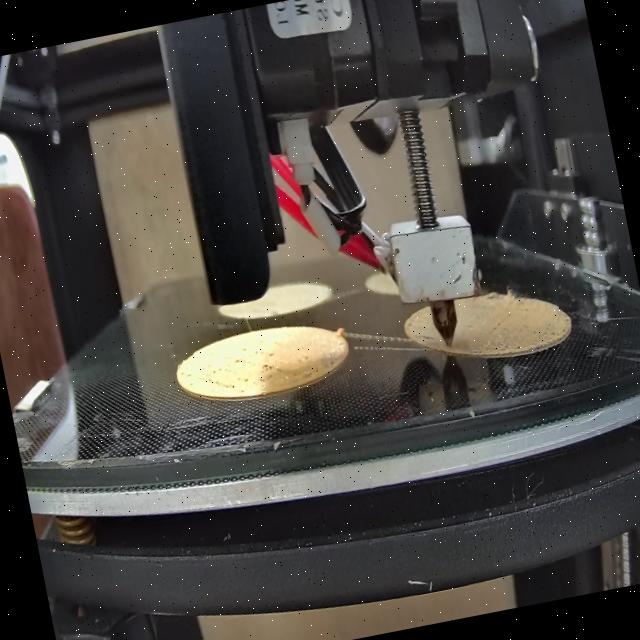under_extrusion: (180, 338, 282, 399), (475, 314, 574, 365), (293, 349, 338, 382), (407, 326, 436, 352)
